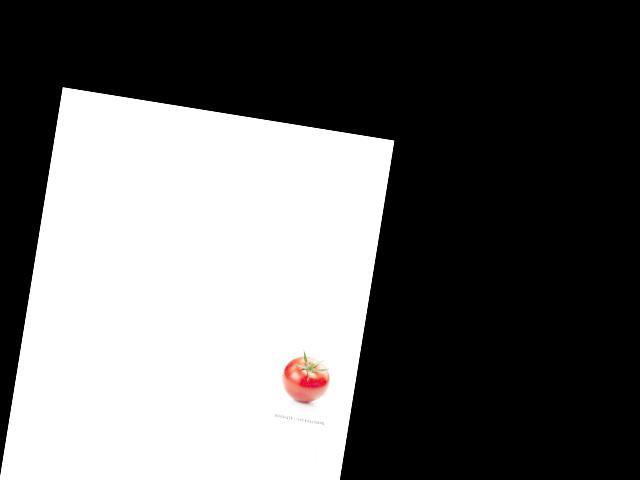tomato: (279, 353, 331, 405)
